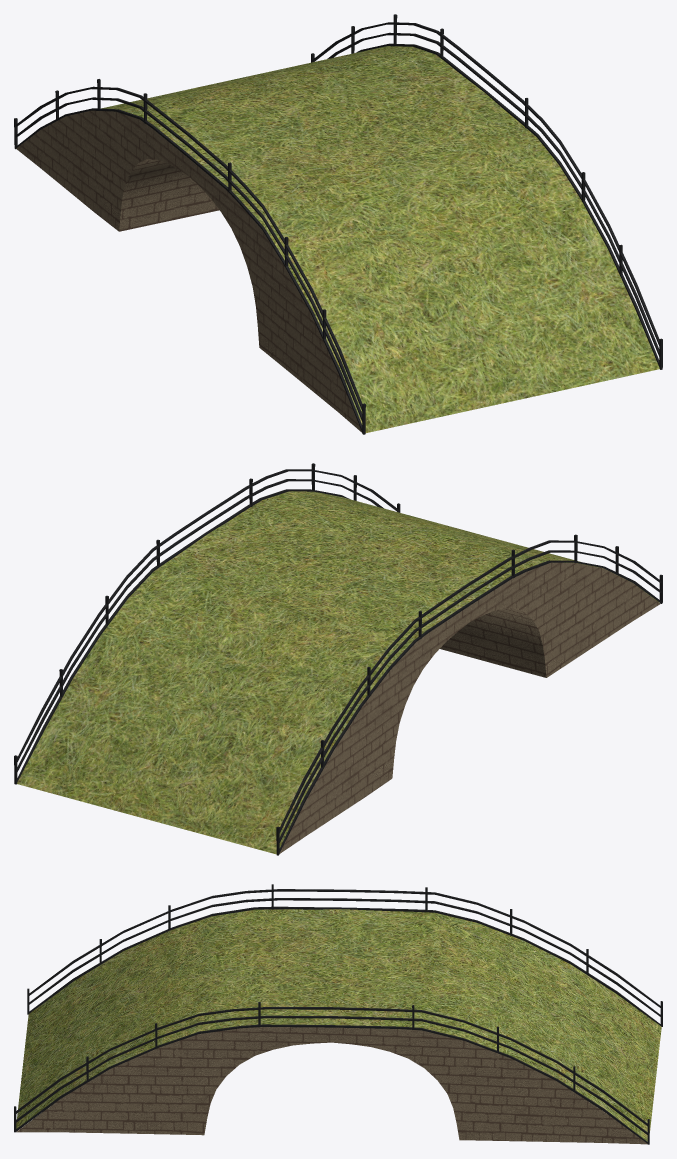
File: New_York_Track_Tunnel.dae
The picture shows the model from 3 angles, top to bottom: view 1: azimuth 30°, elevation 25°; view 2: azimuth 150°, elevation 25°; view 3: azimuth 270°, elevation 25°; orthographic projection. The views are drawn at different scales.
Visible parts, largest first — view 1: New_York_track_tunnel; view 2: New_York_track_tunnel; view 3: New_York_track_tunnel.
Part boxes in pixels (box(x1,y1,x2,y2)): New_York_track_tunnel: box(14, 14, 662, 434); New_York_track_tunnel: box(14, 463, 662, 855); New_York_track_tunnel: box(14, 884, 662, 1144).
Bounding box in the file's own units: 1.26 × 2.63 × 0.6003.
3 materials, 3 textured.
